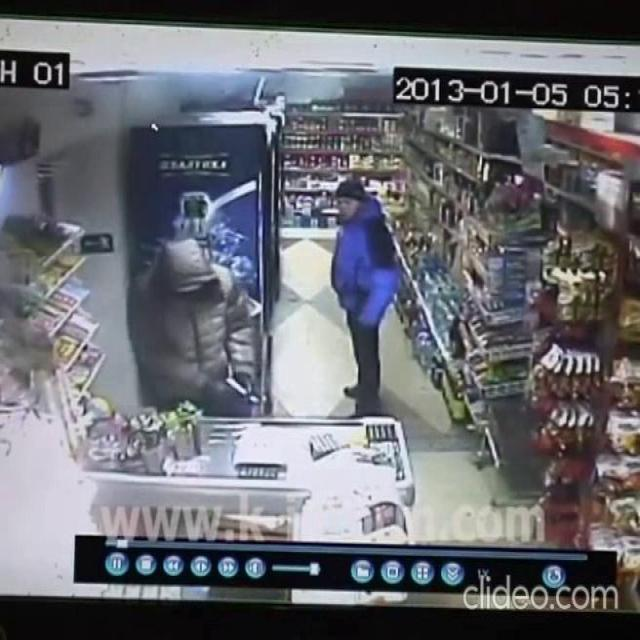pistol: (224, 374, 262, 407)
